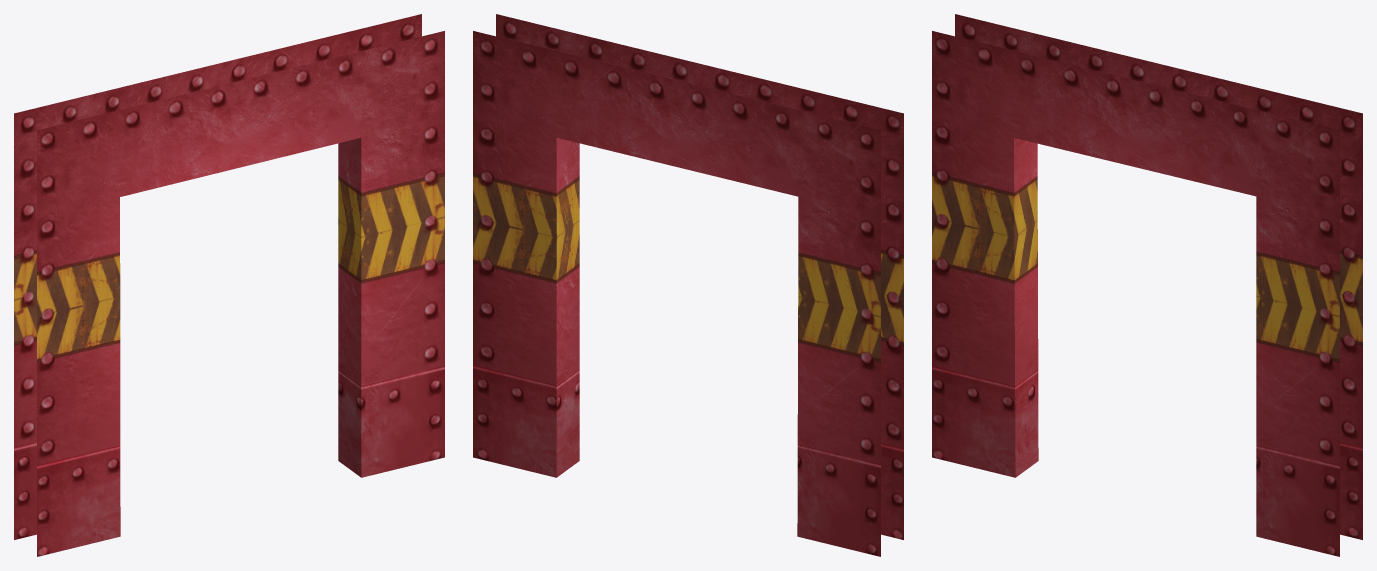
File: DoorWall.fbx
The picture shows the model from 3 angles, left to right: view 1: azimuth 30°, elevation 25°; view 2: azimuth 150°, elevation 25°; view 3: azimuth 330°, elevation 25°; orthographic projection.
Parts seen in each view (by area): view 1: DoorWall; view 2: DoorWall; view 3: DoorWall.
Boxes of the visible parts, x1,y1,x2,y2 form: DoorWall: (14,14,444,556); DoorWall: (473,14,903,556); DoorWall: (932,14,1362,556).
Size of the model in its own units: 1024 by 1024 by 103.
